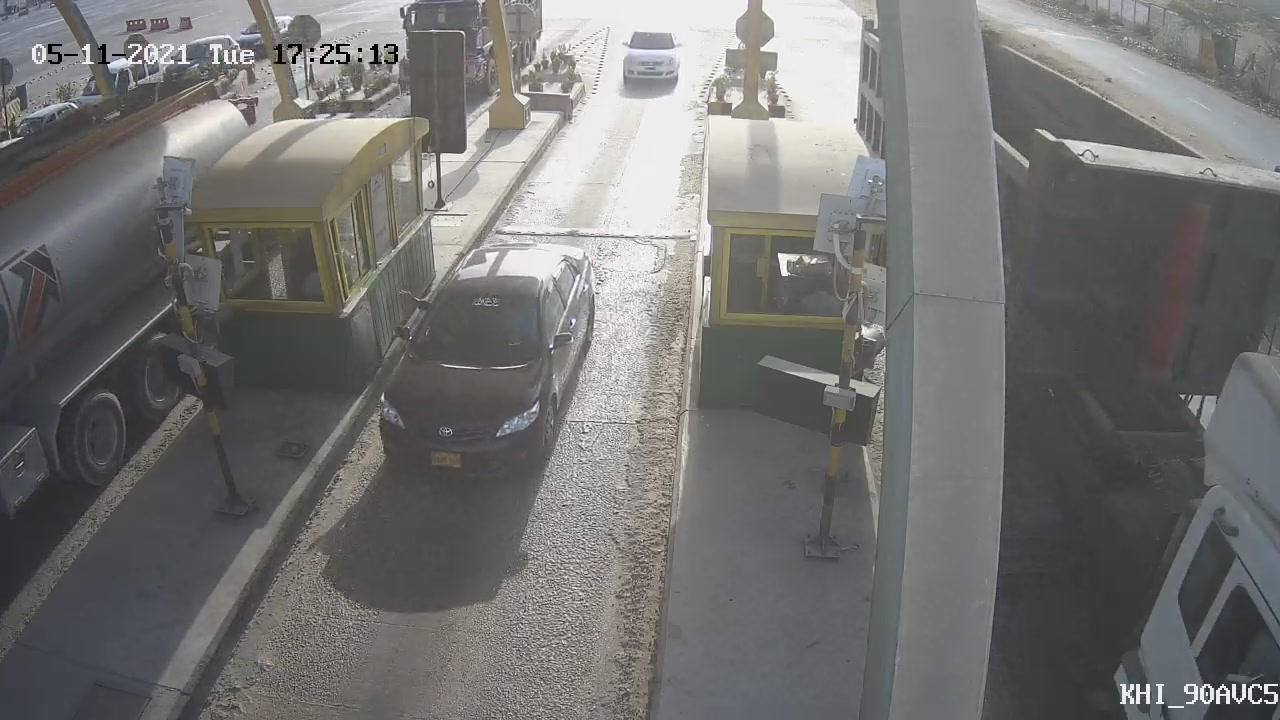F1: (347, 222, 620, 508)
